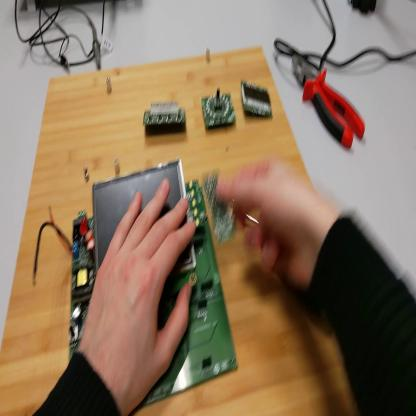hand: (82, 177, 195, 402), (218, 159, 327, 290)
low voltage board: (37, 153, 241, 407)
oscilloscope probe tip: (90, 18, 104, 71)
pliers: (293, 56, 367, 153)
screwdriver-: (246, 209, 328, 320)
welder base: (351, 1, 379, 17)
working area: (2, 48, 362, 416)
